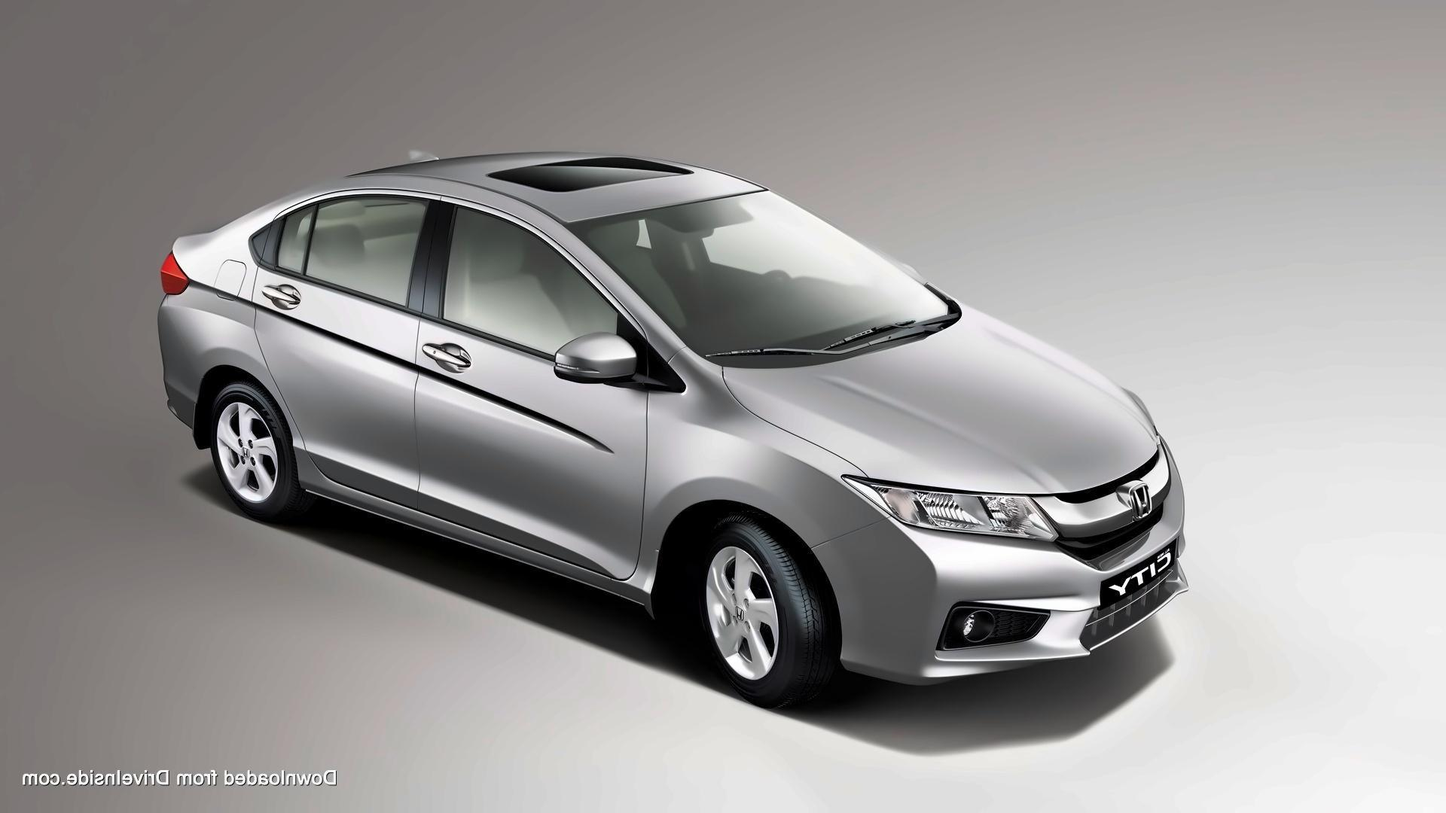Car hood: (719, 300, 1169, 496)
Driver-s door - -F-R-: (411, 188, 657, 582)
Fender - -F-R-: (635, 345, 885, 619)
Fender - -R-R-: (179, 251, 309, 486)
Front bumper: (812, 520, 1215, 690)
Headlight - -L-: (1110, 377, 1169, 460)
Headlight - -R-: (827, 459, 1074, 555)
Passenger-s door - -R-R-: (249, 184, 429, 511)
Rear bumper: (143, 319, 219, 464)
Rear light - -R-: (152, 231, 199, 304)
Side bumper - -R-: (280, 449, 657, 616)
Side mirror - -R-: (545, 313, 650, 396)
